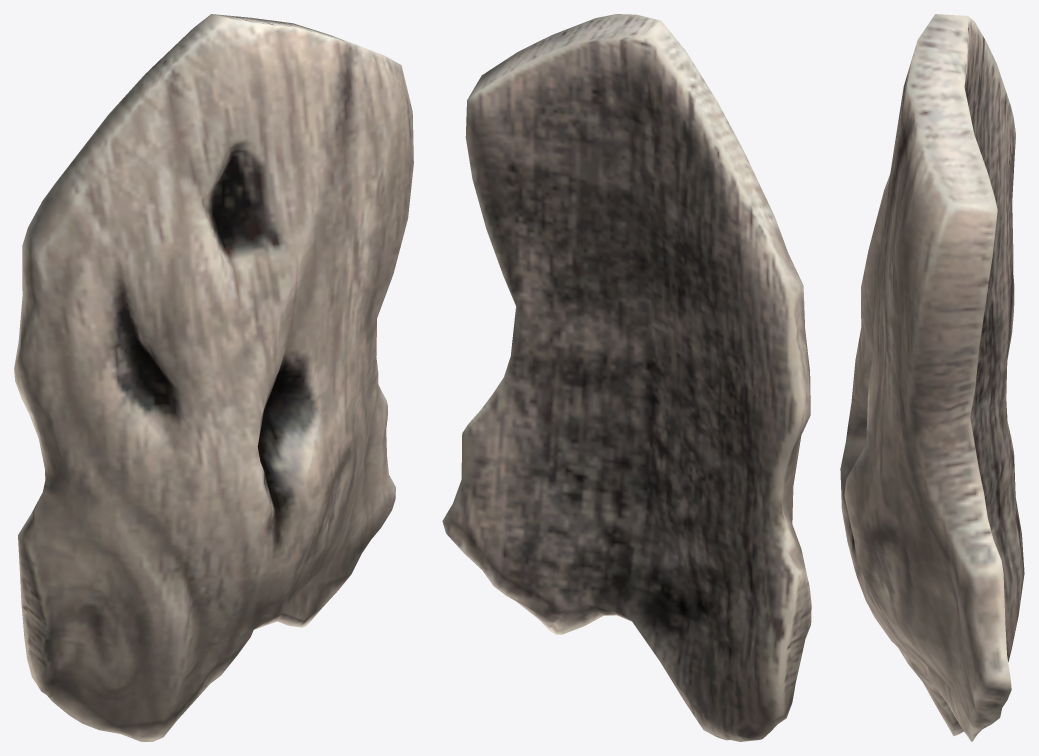
The model's file is CorruptVillagerMask_04.fbx.
The picture shows the model from 3 angles, left to right: view 1: azimuth 30°, elevation 25°; view 2: azimuth 150°, elevation 25°; view 3: azimuth 270°, elevation 25°; orthographic projection. The views are drawn at different scales.
Parts seen in each view (by area): view 1: SM_CorruptVillager_Mask_04.mo; view 2: SM_CorruptVillager_Mask_04.mo; view 3: SM_CorruptVillager_Mask_04.mo.
Part boxes in pixels (<box>): SM_CorruptVillager_Mask_04.mo: <box>14,14,413,741</box>; SM_CorruptVillager_Mask_04.mo: <box>442,14,811,741</box>; SM_CorruptVillager_Mask_04.mo: <box>840,14,1024,741</box>.
Size of the model in its own units: 19.77 by 36.36 by 8.01.
Materials: 1 (1 with a texture image).
